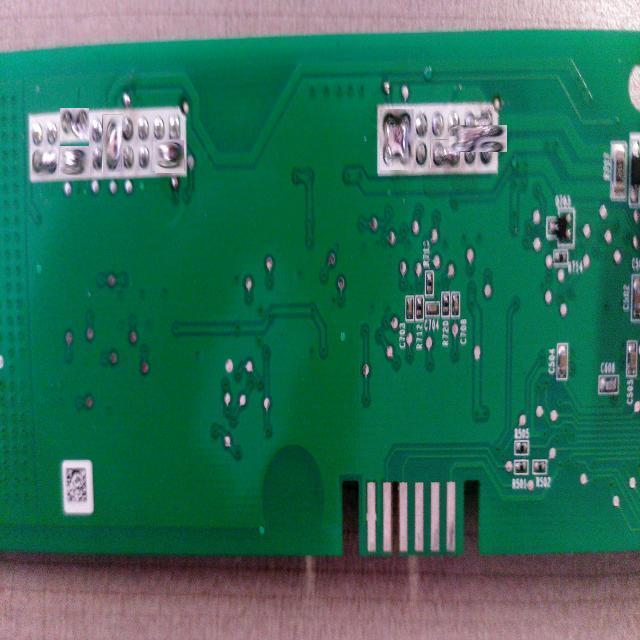Short_circuit: (380, 109, 414, 170), (457, 117, 500, 160), (102, 114, 122, 172), (60, 108, 89, 146), (154, 141, 185, 172), (59, 147, 90, 177), (430, 139, 460, 168), (32, 147, 58, 175)
